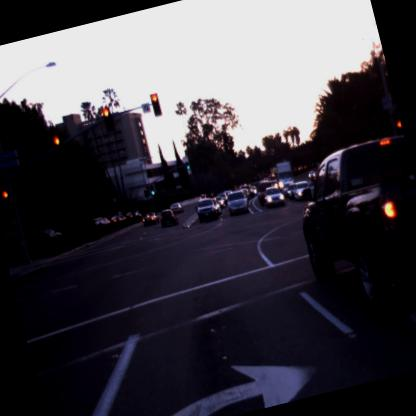trafficlight: (0, 188, 18, 226), (50, 134, 66, 162), (148, 91, 163, 118), (101, 106, 115, 131)
